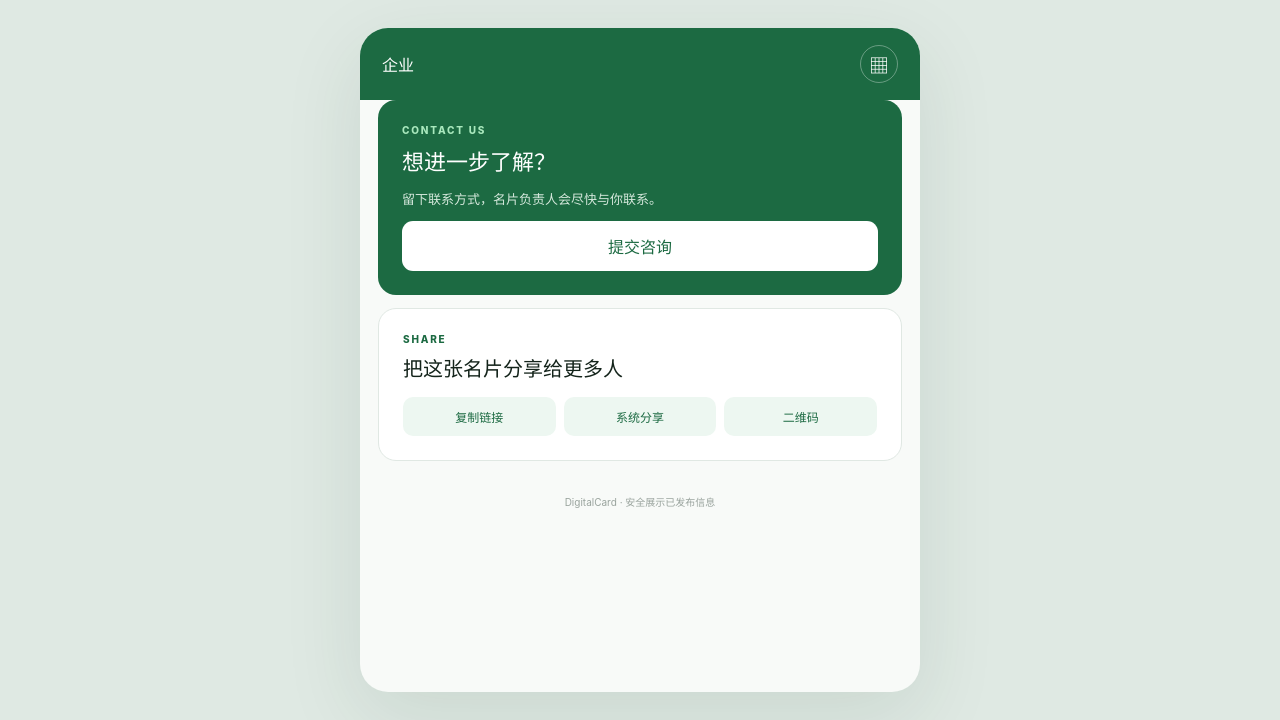
Test: H5 App › requires privacy consent and submits a traceable inquiry
Click the button "提交咨询": (640, 246) [402,221,878,271]
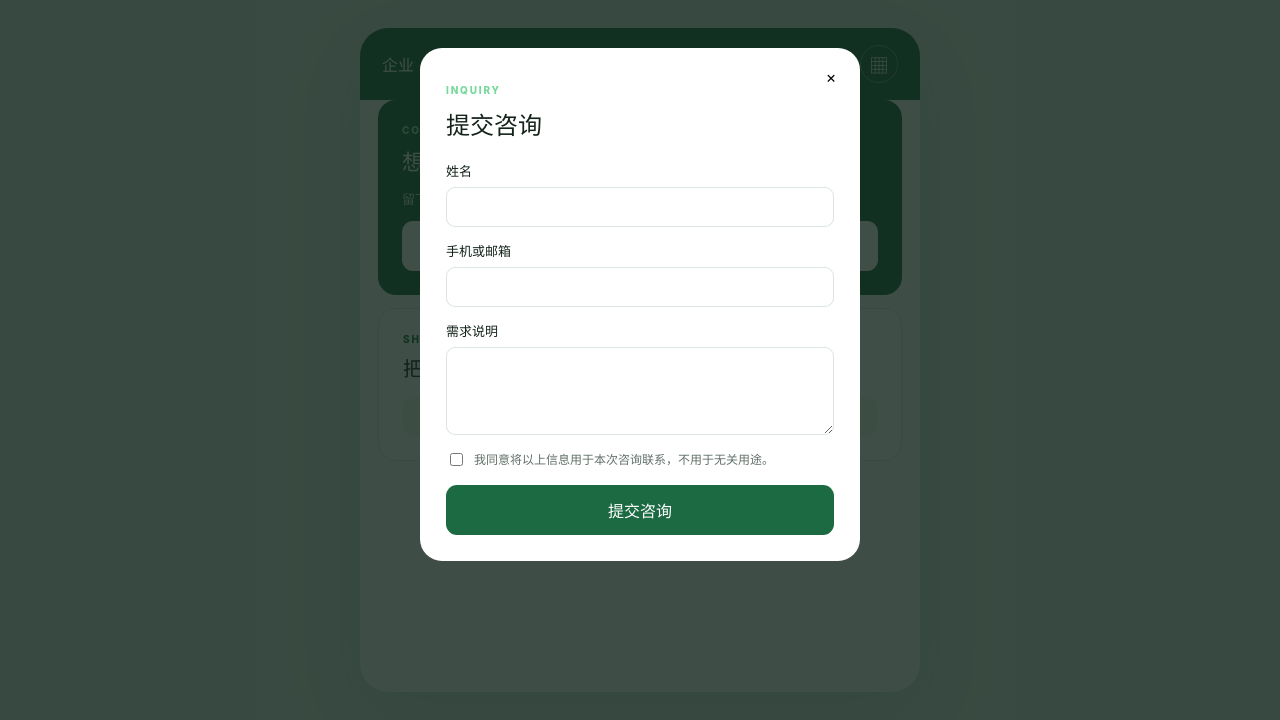
Submit the form with class "inquiry-dialog", box [420,48,860,561]
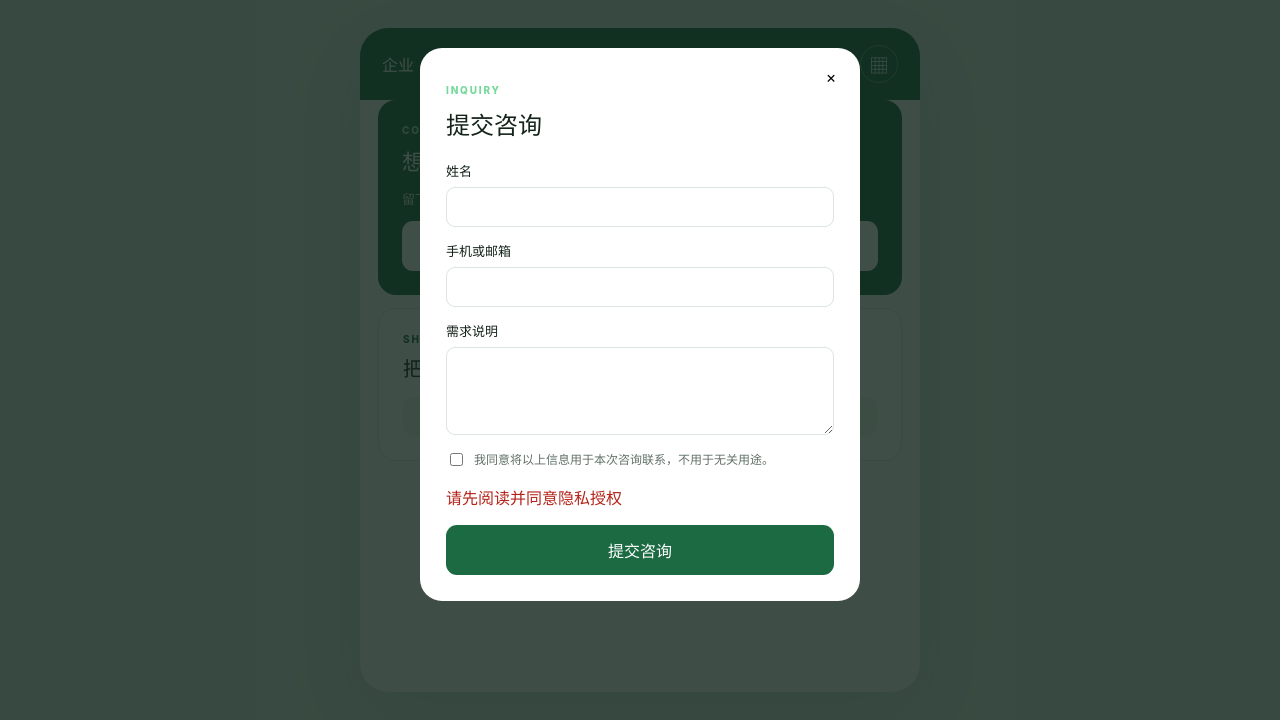
Expected: the text "请先阅读并同意隐私授权" is shown, [446,488,622,508]
In the field labelled "姓名": (640, 207) [446,187,834,227], type "客户甲"
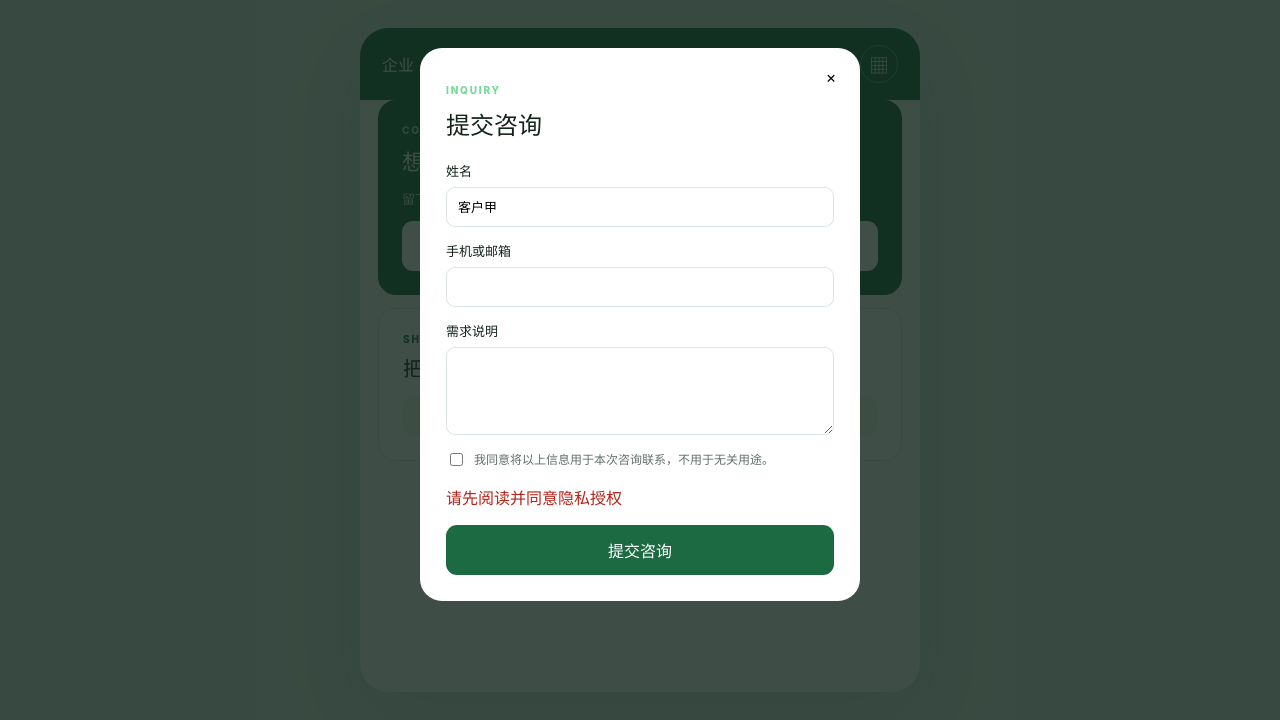
In the field labelled "手机或邮箱": (640, 287) [446,267,834,307], type "13800002222"
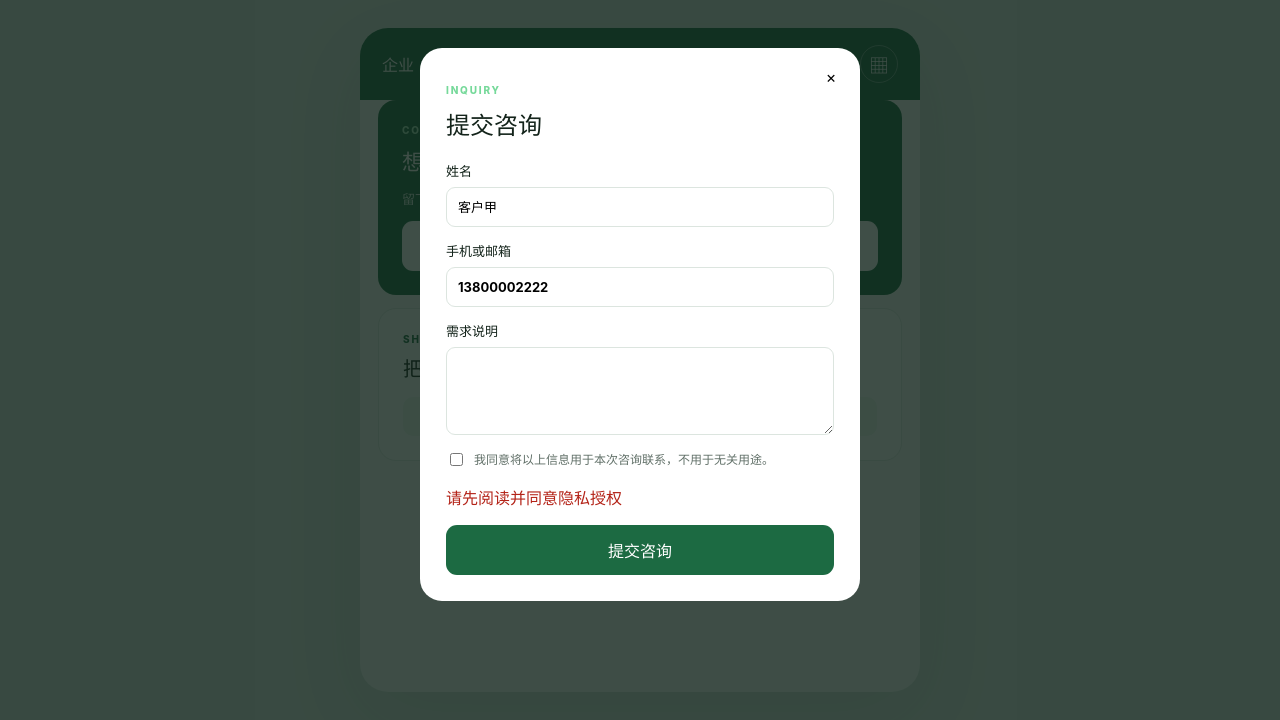
Click the checkbox labelled "我同意将以上信息用于本次咨询联系，不用于无关用途。": (456, 459) [450,453,463,466]
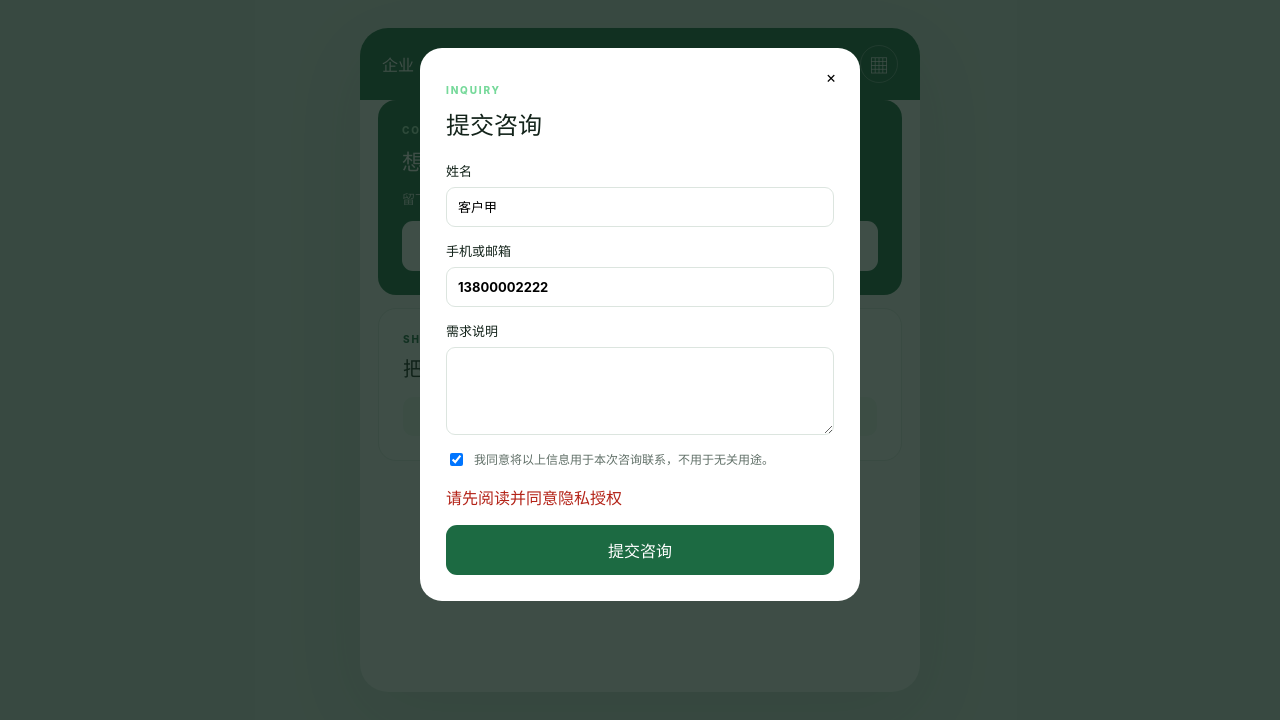
Submit the form with class "inquiry-dialog", box [420,48,860,601]
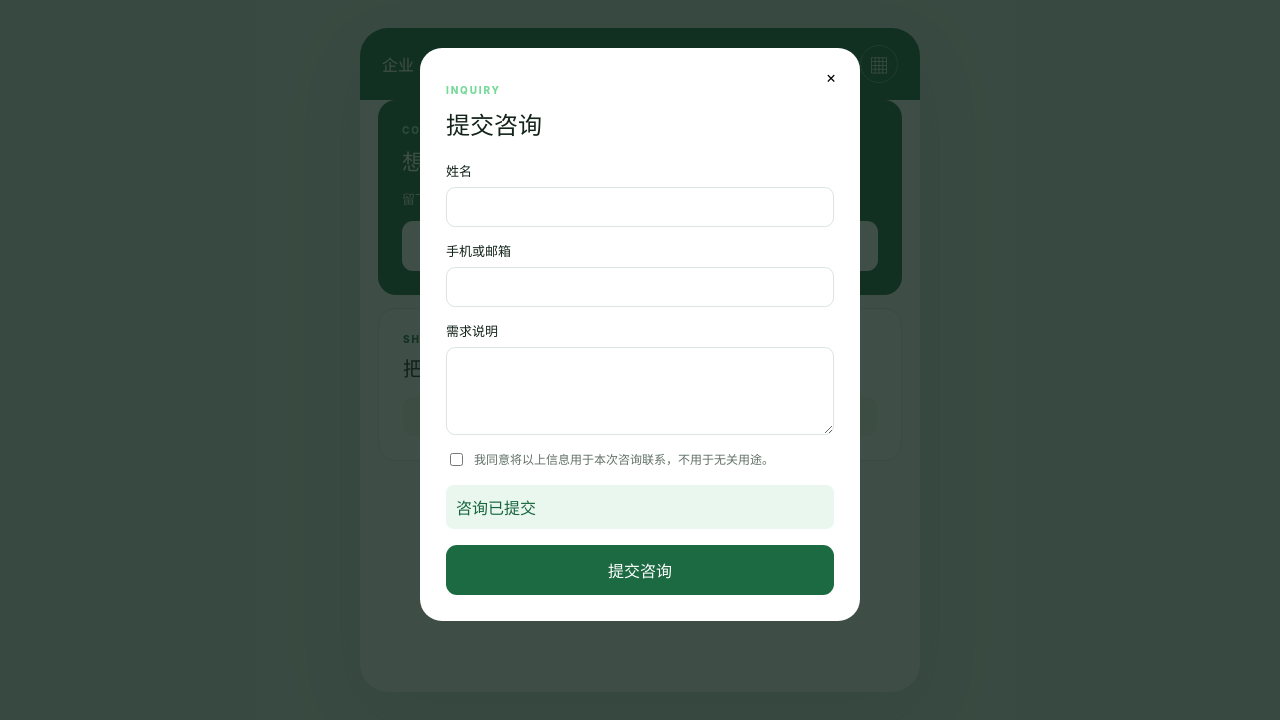
Expected: the text "咨询已提交" is shown, [446,485,834,529]
